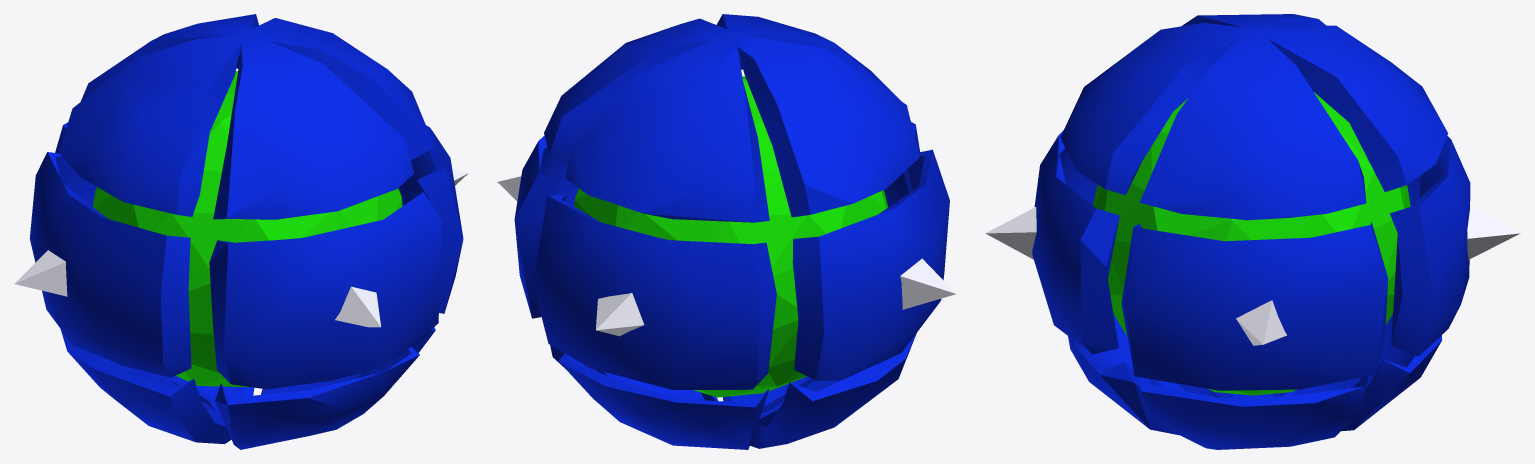
The model's file is Player.fbx.
3 renders of one model, left to right at view 1: azimuth 30°, elevation 25°; view 2: azimuth 150°, elevation 25°; view 3: azimuth 270°, elevation 25°, orthographic. The views are drawn at different scales.
Parts seen in each view (by area): view 1: Player; view 2: Player; view 3: Player.
Boxes of the visible parts, x1=… form: Player: x1=14, y1=14, x2=468, y2=449; Player: x1=497, y1=14, x2=955, y2=449; Player: x1=985, y1=14, x2=1520, y2=449.
Bounding box in the file's own units: 243 × 200 × 243.
